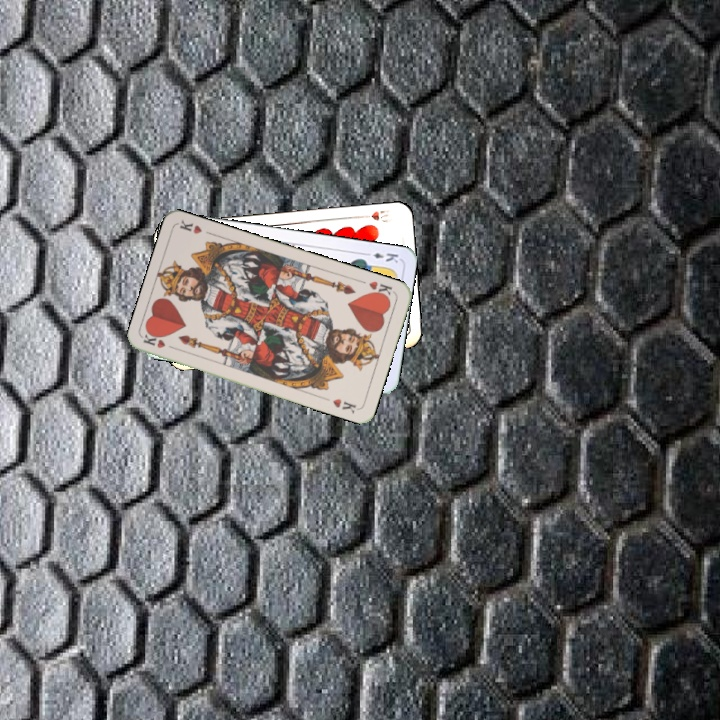EK: (360, 248, 401, 265)
H10: (356, 206, 393, 225)
HK: (140, 330, 180, 353), (365, 277, 397, 301)
